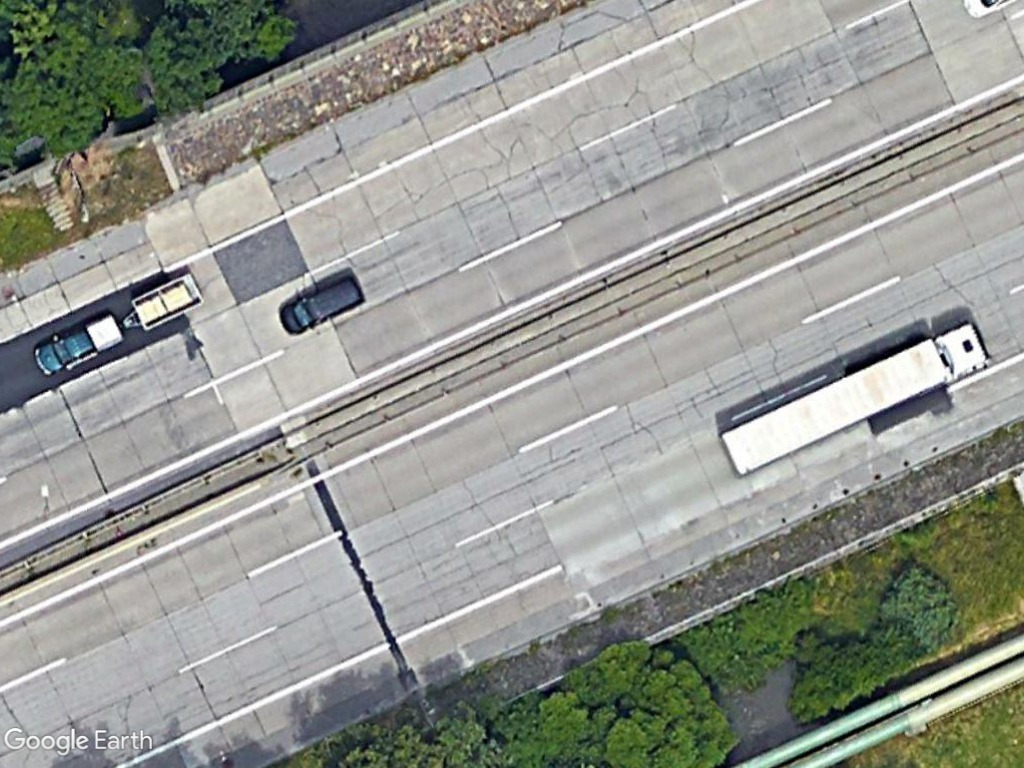car: (276, 261, 375, 341)
longvehicle: (714, 309, 1003, 481)
others: (26, 305, 130, 382)
